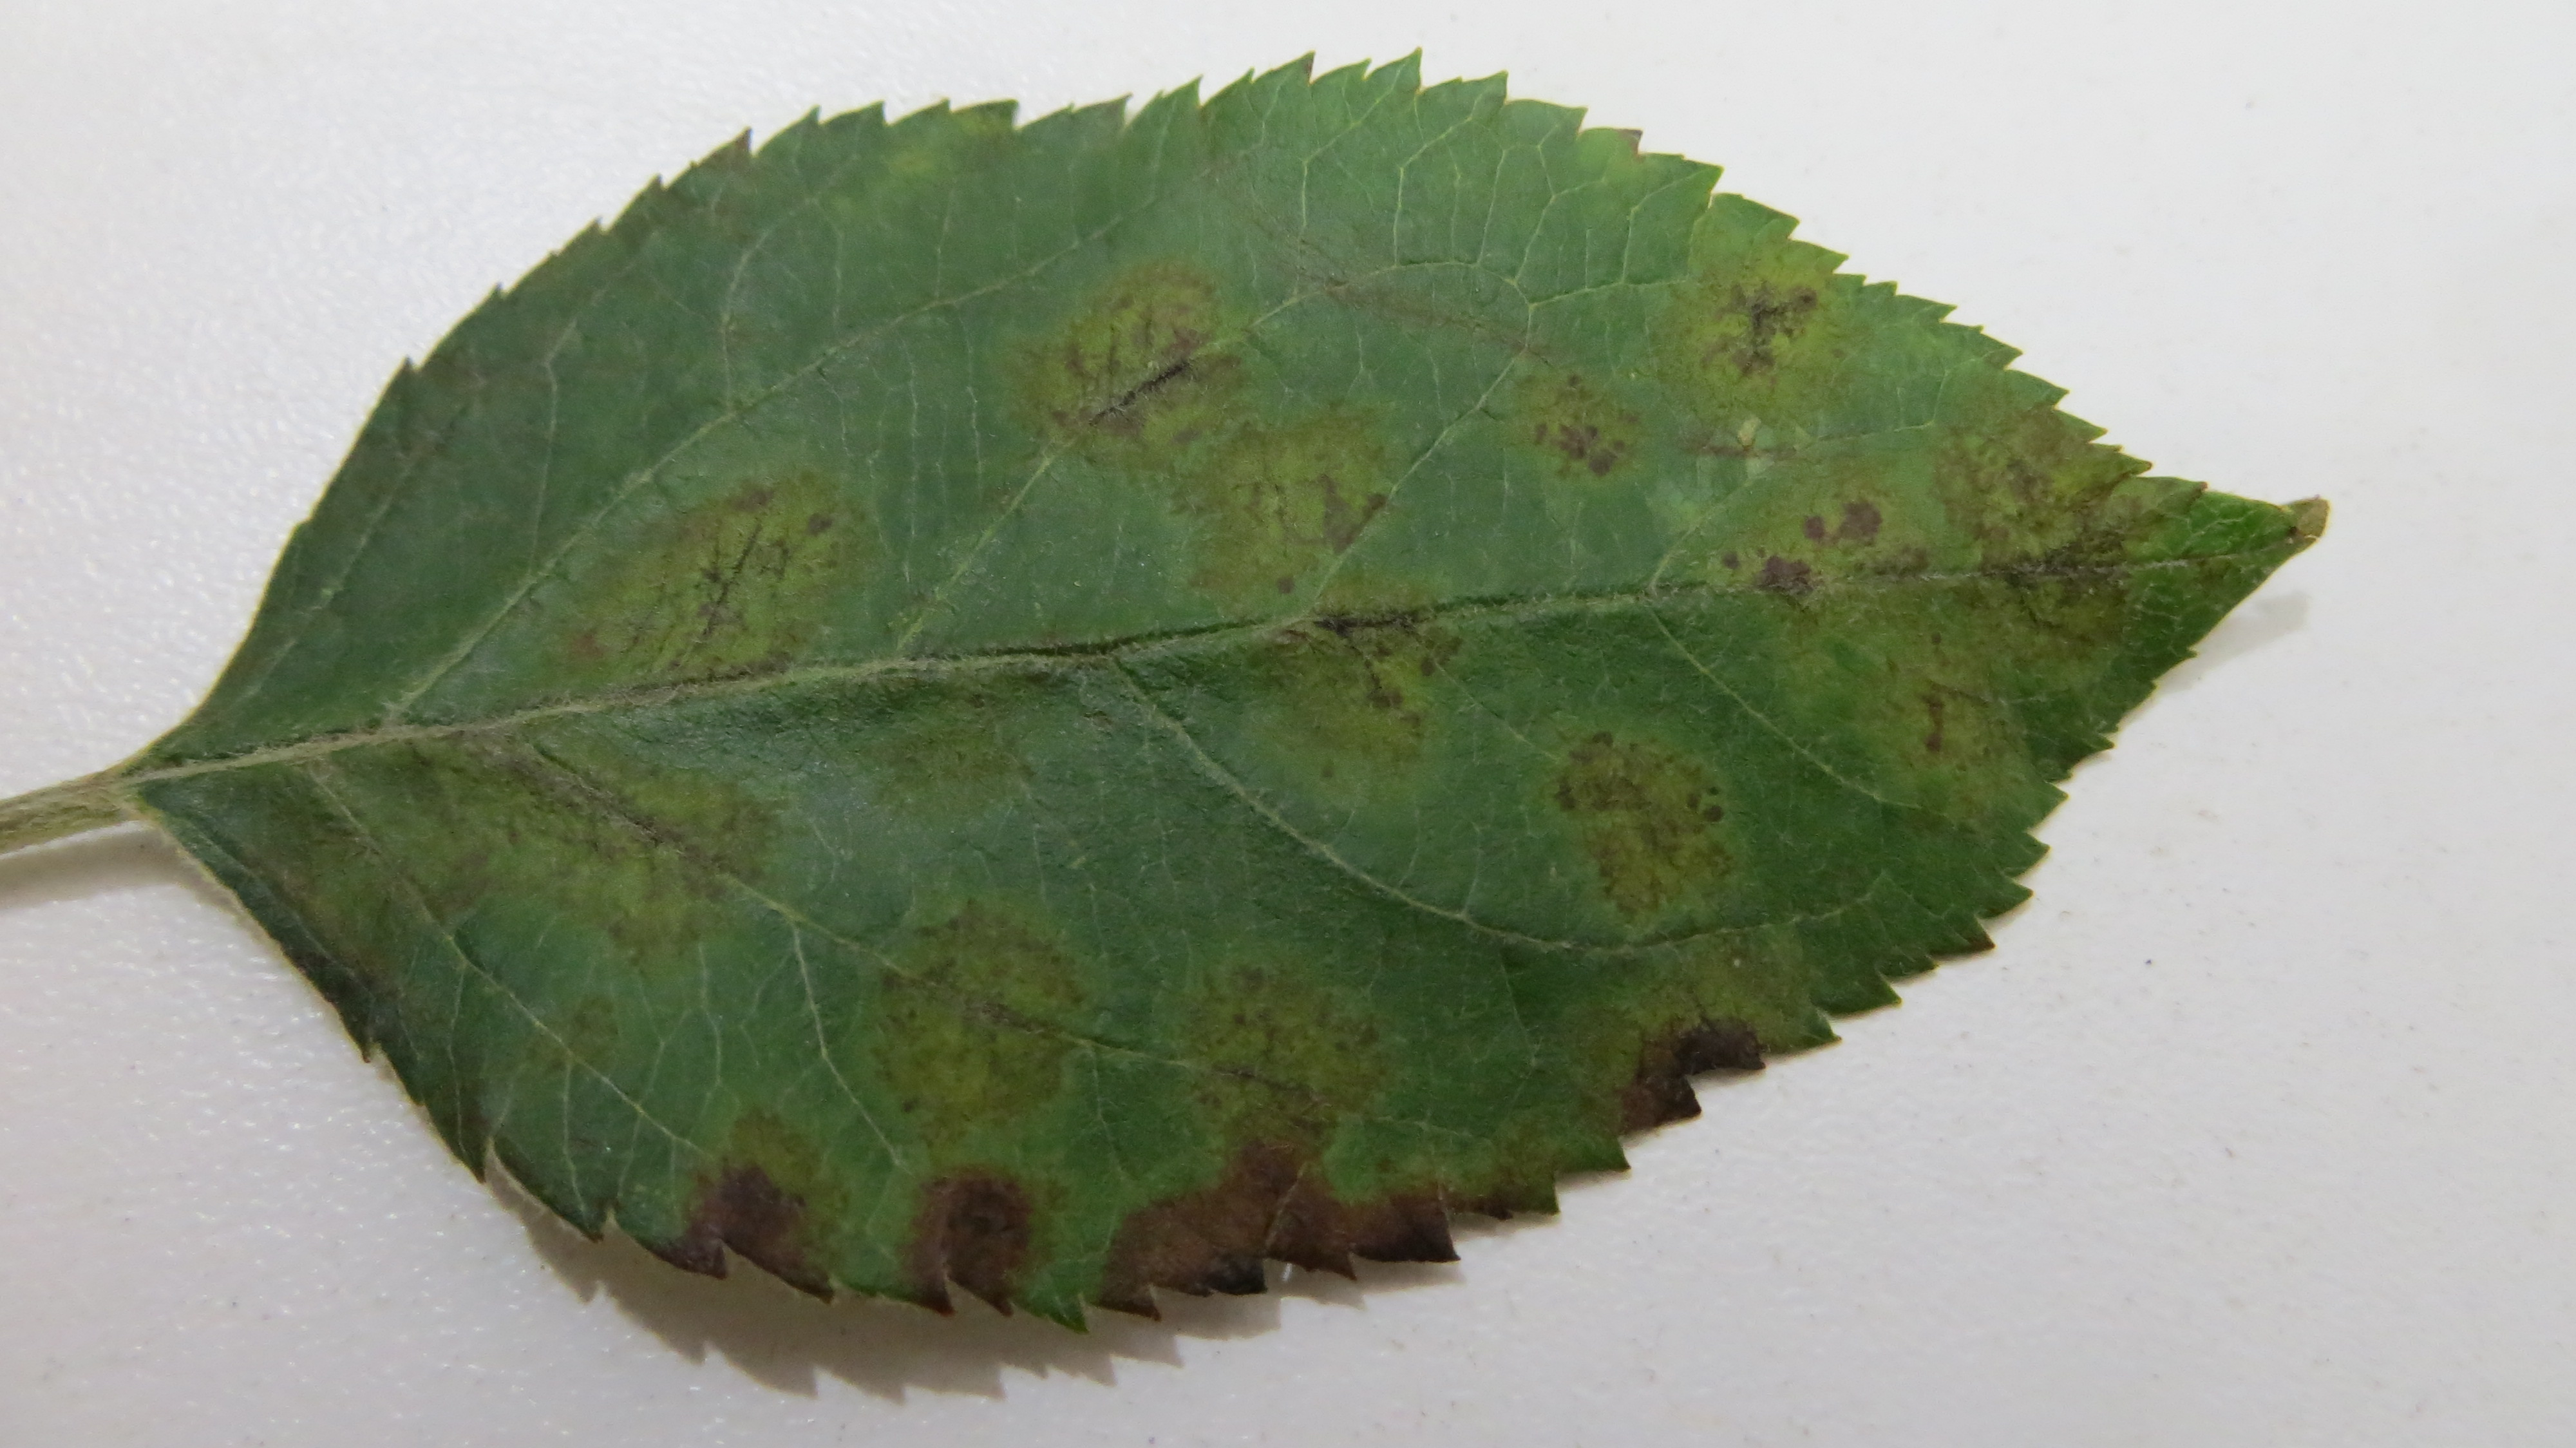sarna: (350, 715, 777, 970), (563, 455, 878, 701), (1934, 402, 2178, 678), (860, 876, 1106, 1145), (1698, 439, 1923, 680), (1095, 1144, 1392, 1321), (1545, 726, 1780, 942), (1171, 935, 1387, 1158), (1569, 942, 1780, 1136), (1658, 212, 1842, 430), (853, 651, 1031, 839), (688, 1082, 842, 1296), (1842, 657, 2042, 821), (885, 1135, 1054, 1319), (1490, 335, 1651, 508)
